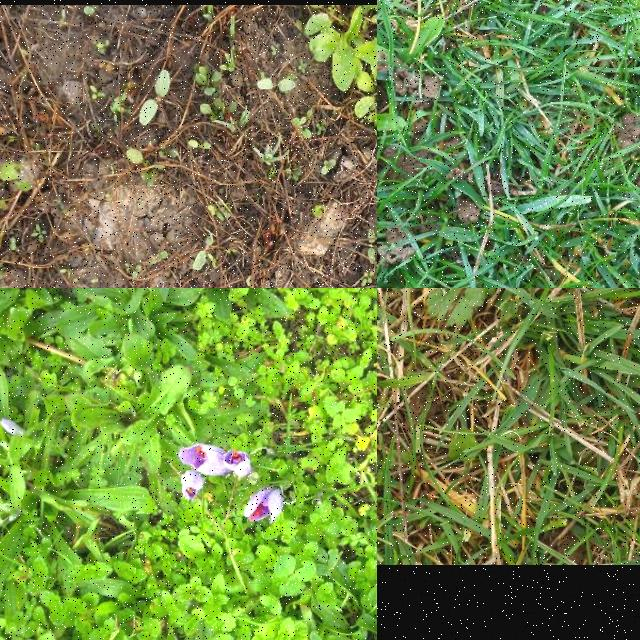flower: (180, 444, 226, 478), (244, 489, 284, 525), (223, 449, 251, 477), (182, 470, 206, 502)
